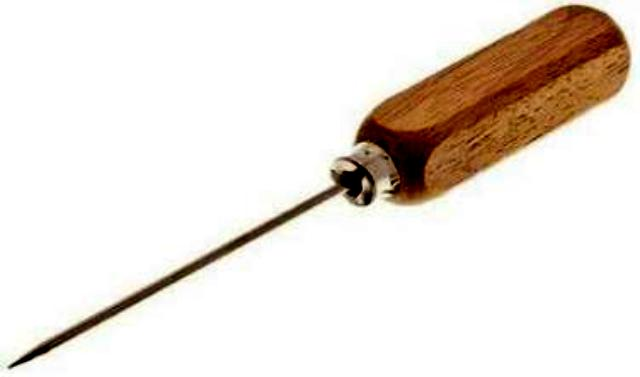ice pick: (1, 1, 635, 373)
